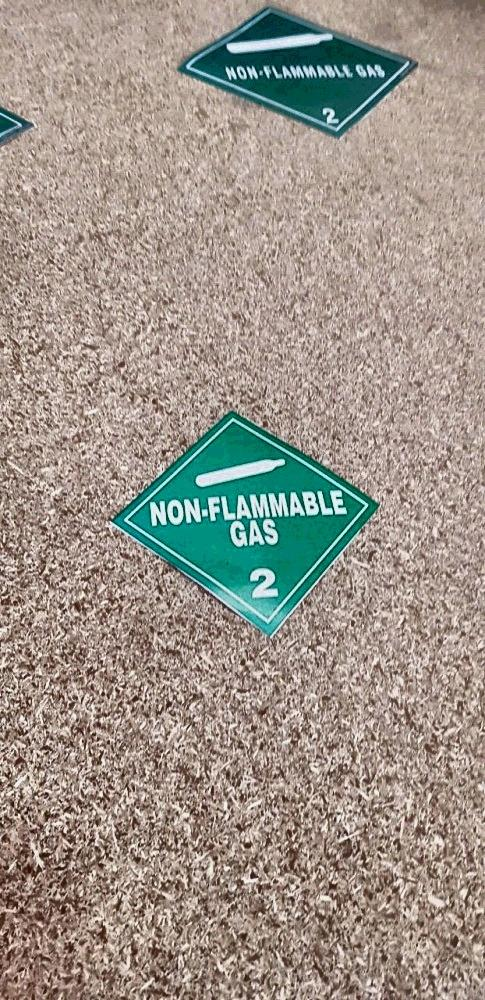non-flammable-gas: (111, 411, 374, 637), (184, 9, 416, 138)
